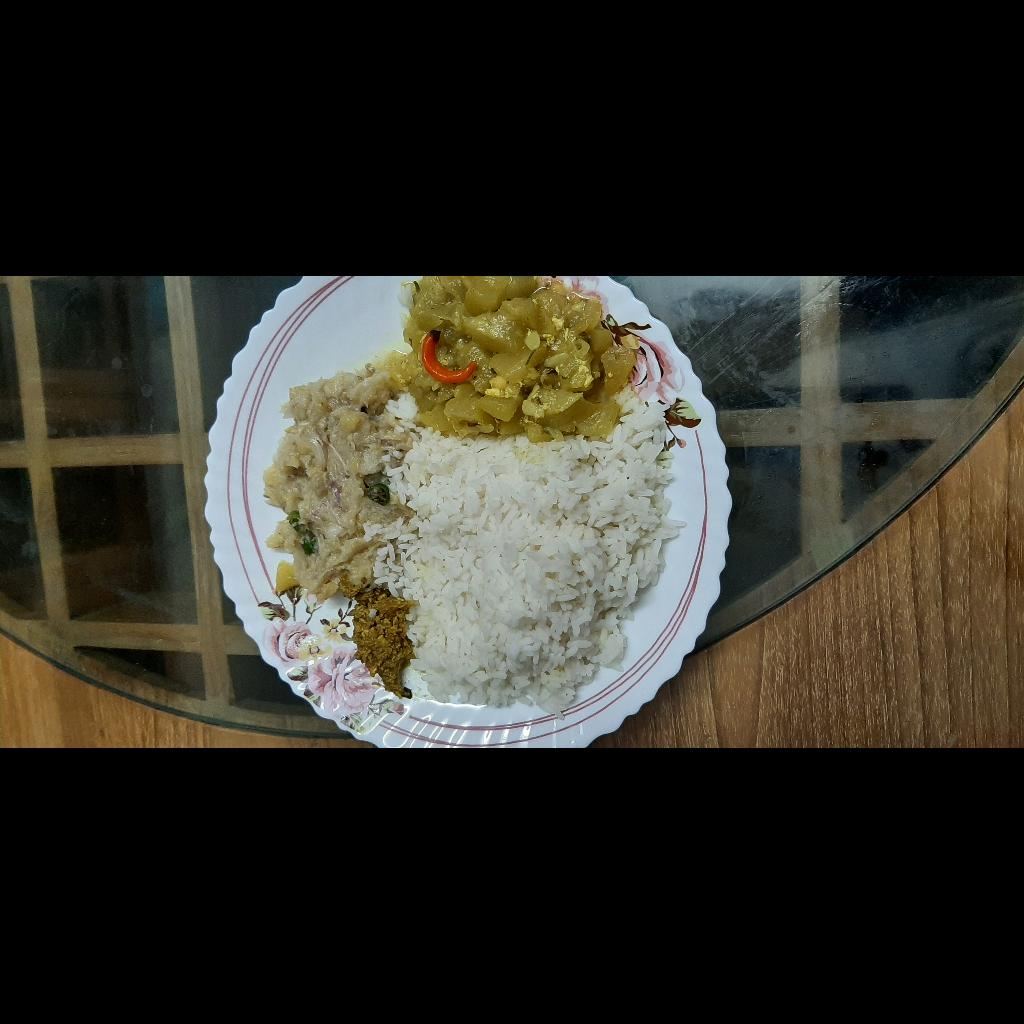fish: (50, 624, 159, 686)
papaya: (312, 660, 472, 922)
rice: (32, 641, 366, 960)
vorta: (143, 533, 382, 678)
